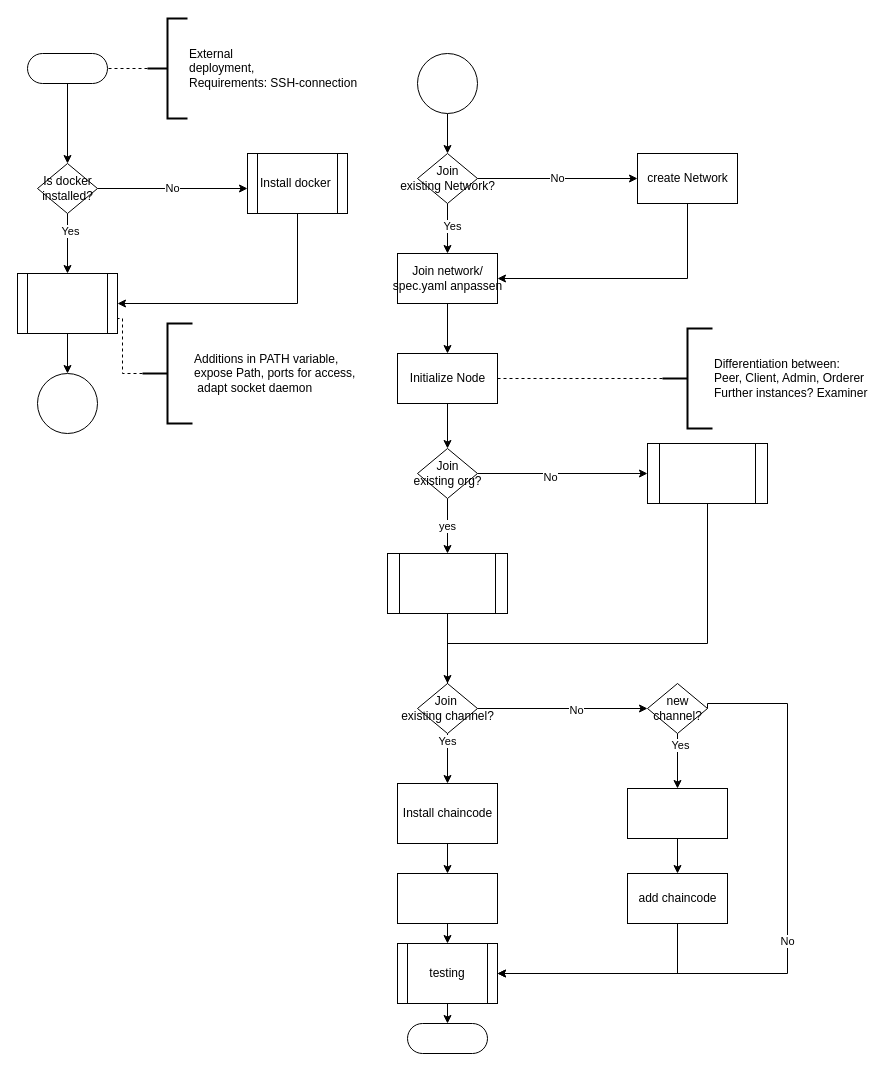
Some shapes in this 885 by 1071 pixel diagram are drawn without their labels. Each missing label, with the centre of its shape:
create channel: point 677,813
create org. and join: point 707,473
Install minifab: point 67,303
invoke etc? actions to take?: point 447,898
join request and waiting till accepted: point 447,583
Loading deployment: point 67,68
node operational: point 447,1038
